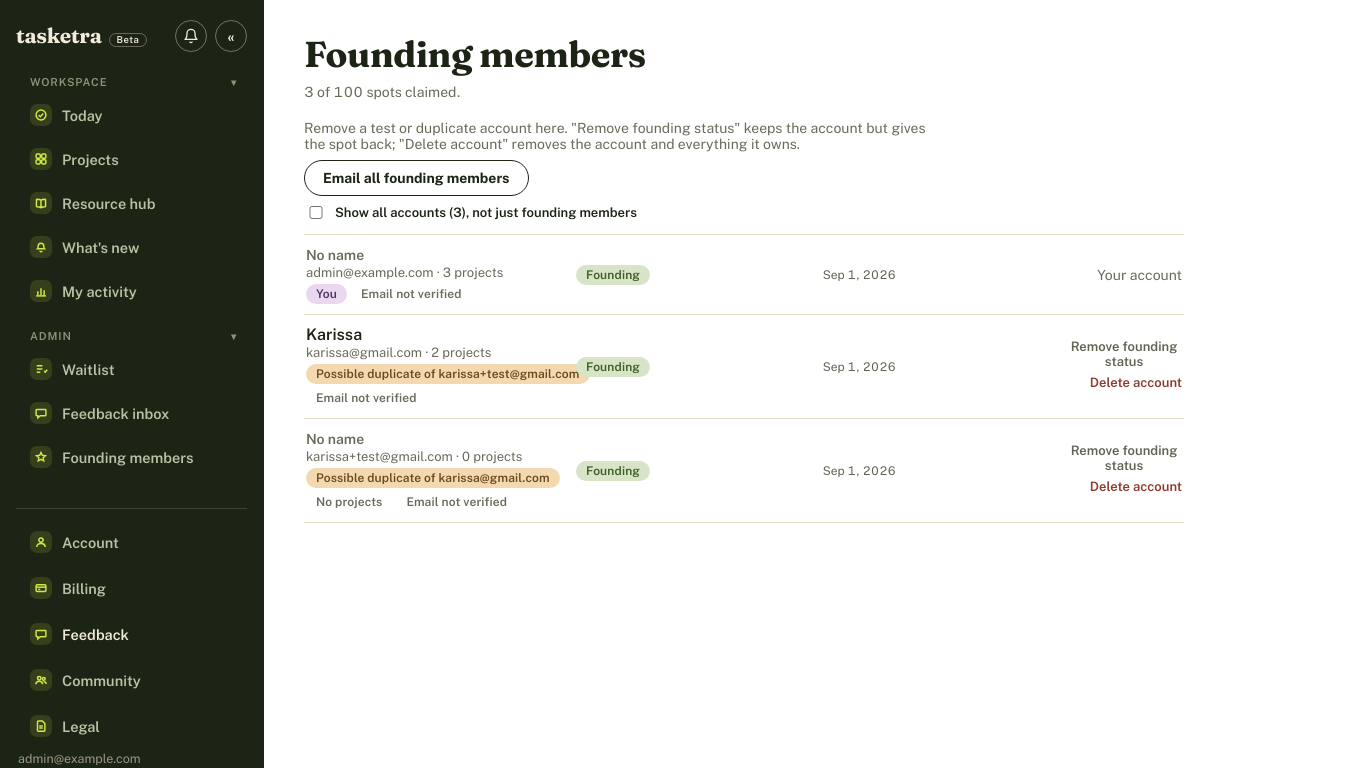
Scenario: Founding members admin page › shows blockers and does not allow the delete
Click the 1st button "Delete account". click: [1136, 382]
box: [1090,370,1182,394]
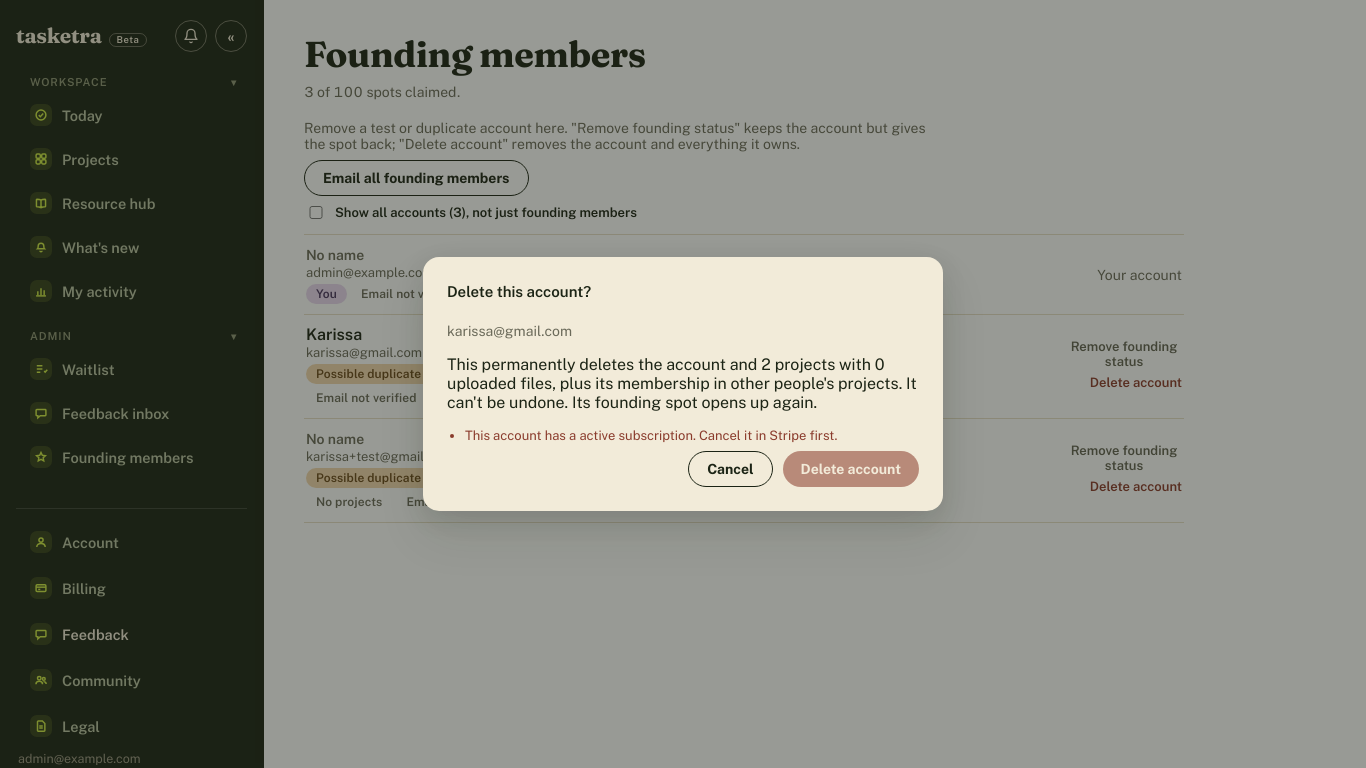
Expected: the dialog shows "Cancel it in Stripe first", [465,428,837,443]
Expected: the button "Delete account" is disabled, [783,451,919,487]
